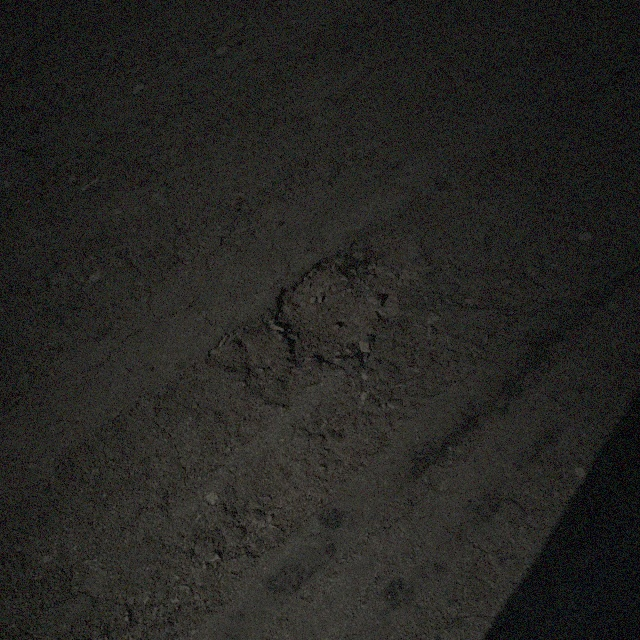pothole: (265, 247, 409, 373)
